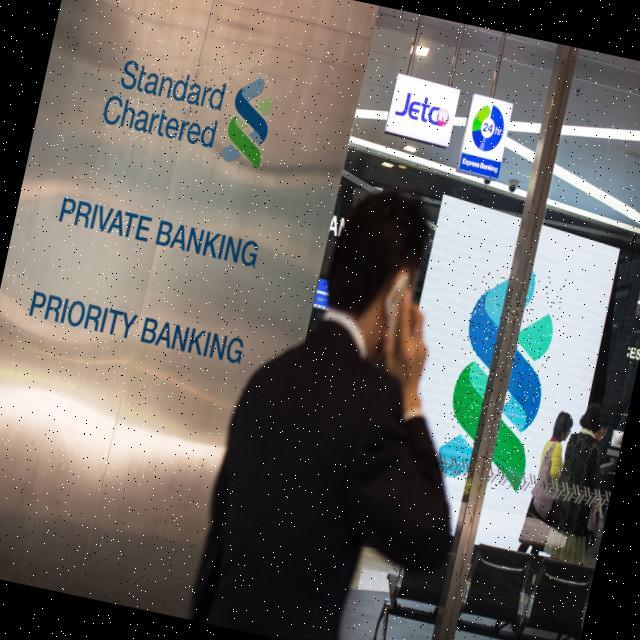Standard Chartered: (434, 261, 566, 495), (97, 46, 280, 175)
